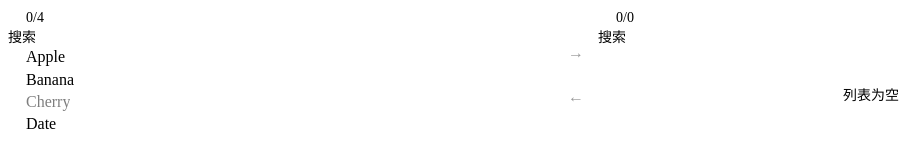
Scenario: Transfer › 回归:全选作用于过滤子集后清空搜索,隐藏项保持未选(不被误选)
Type "an" into the search field with placeholder "搜索" below "0/4" at {"x": 281, "y": 38}, box [8,30,554,46]
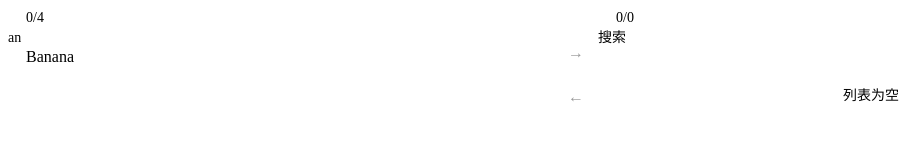
Click the checkbox labelled "0/4" at {"x": 17, "y": 18}, box [8,8,26,28]
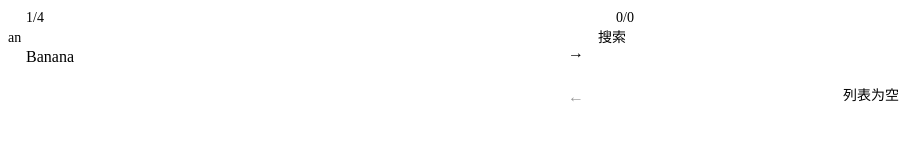
Clear the search field named "搜索" at {"x": 281, "y": 38}, box [8,30,554,46]
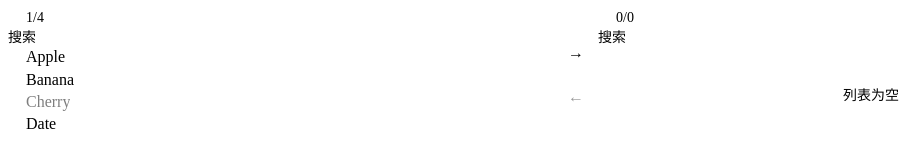
Result: the checkbox labelled "Banana" is checked at [26,71,74,88]
Result: the checkbox labelled "Apple" is not checked at [26,48,65,65]
Result: the checkbox labelled "Date" is not checked at [26,115,56,132]
